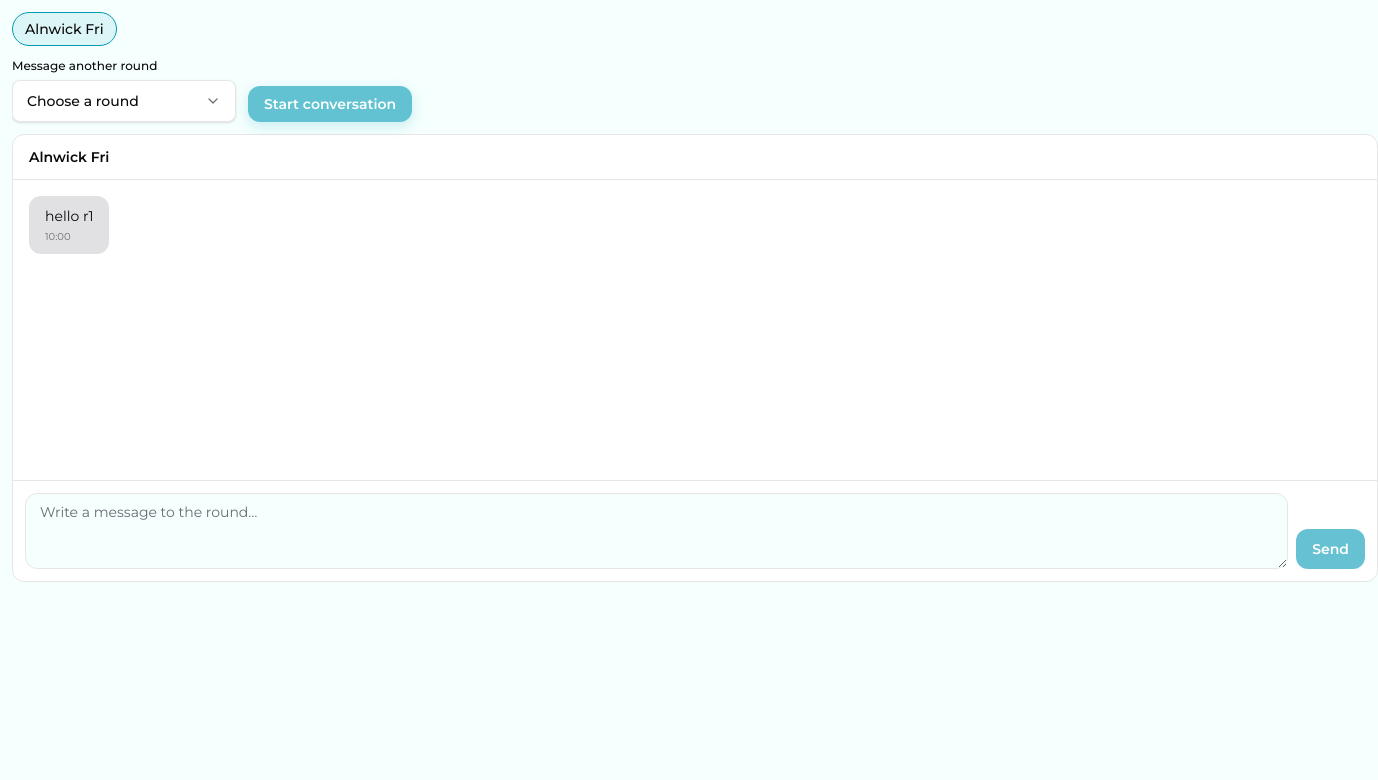
Test case: TechnicianChat › offers the rounds without a chat next to the ones that have one
expect the tab "Alnwick Fri" is shown: met, box x1=12 y1=12 x2=117 y2=46
Click the button named "Message another round" at (124, 101), box x1=12 y1=80 x2=236 y2=122
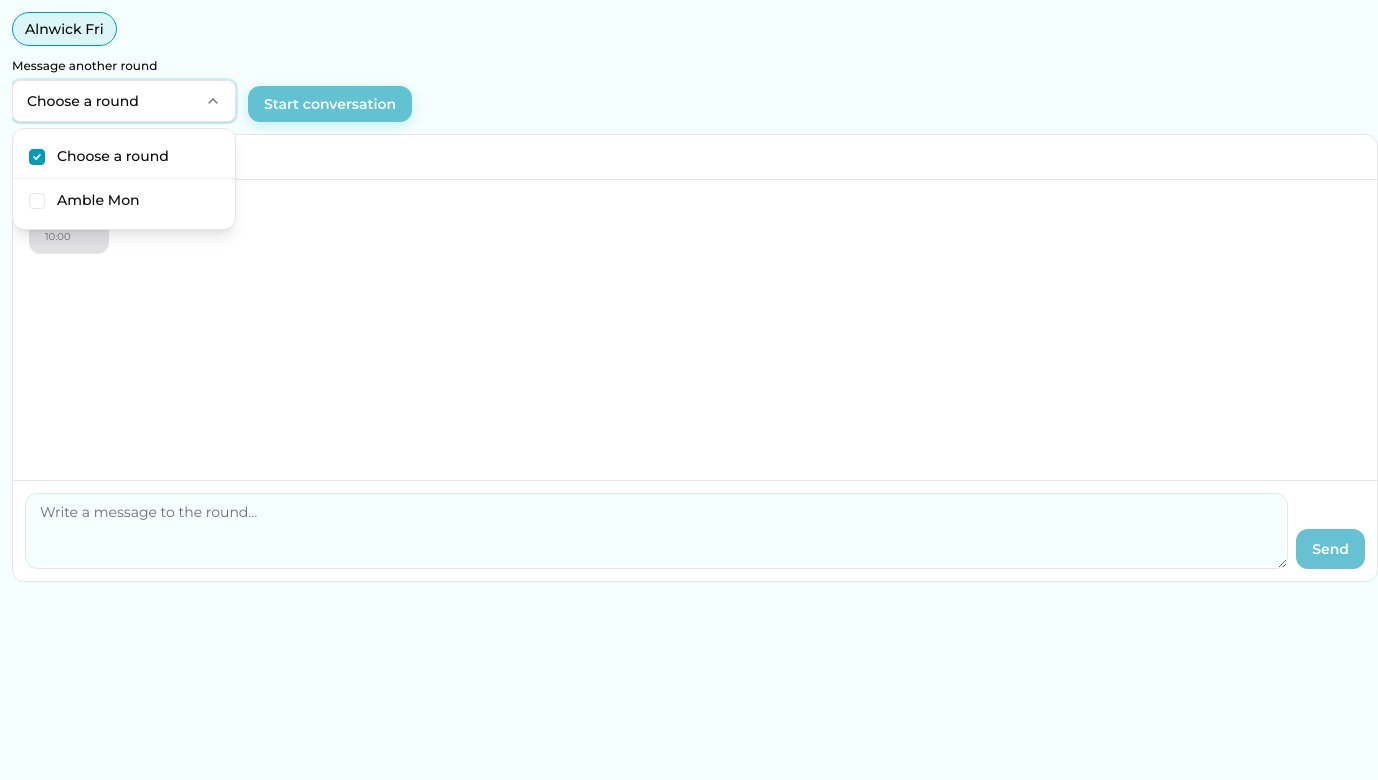
Click the option "Amble Mon" at (124, 201), box x1=13 y1=179 x2=235 y2=223
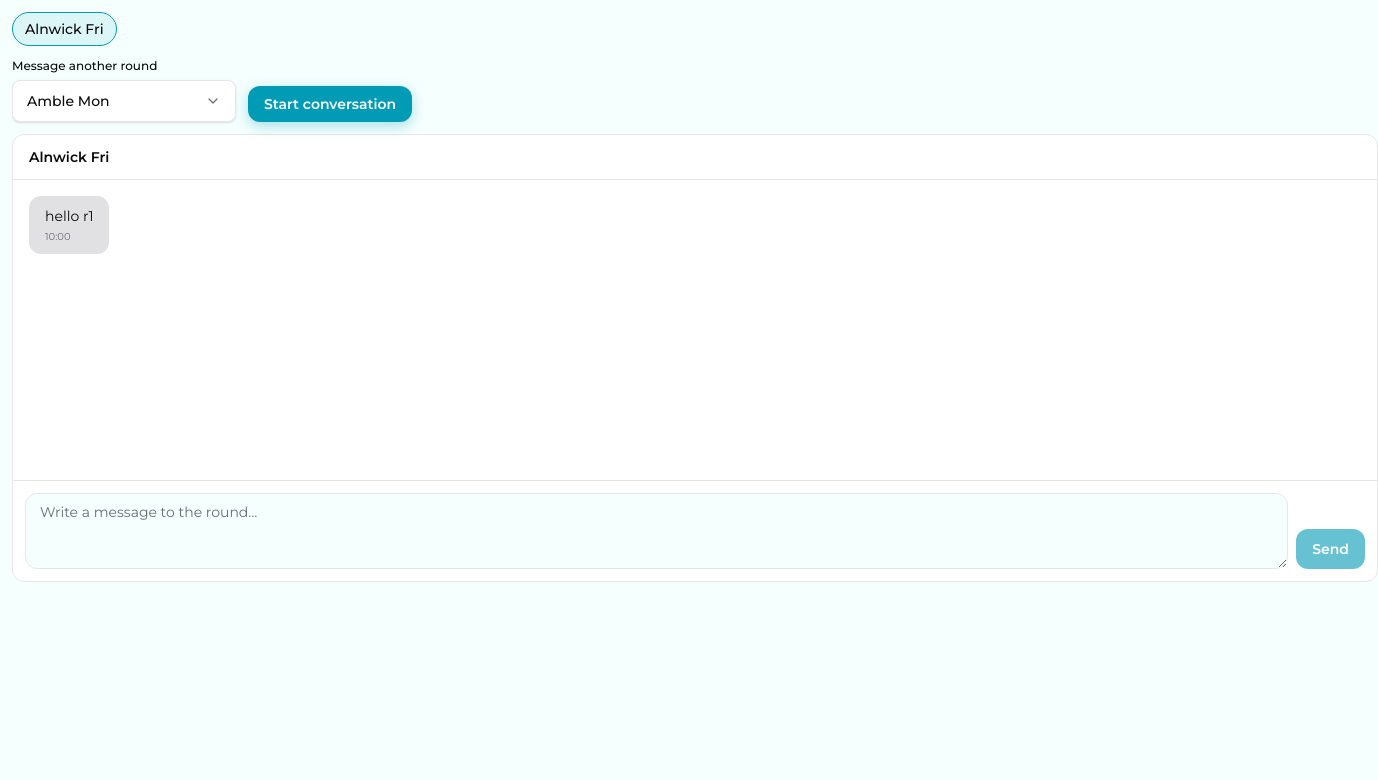
Click the button "Start conversation" at (330, 104), box x1=248 y1=86 x2=412 y2=122
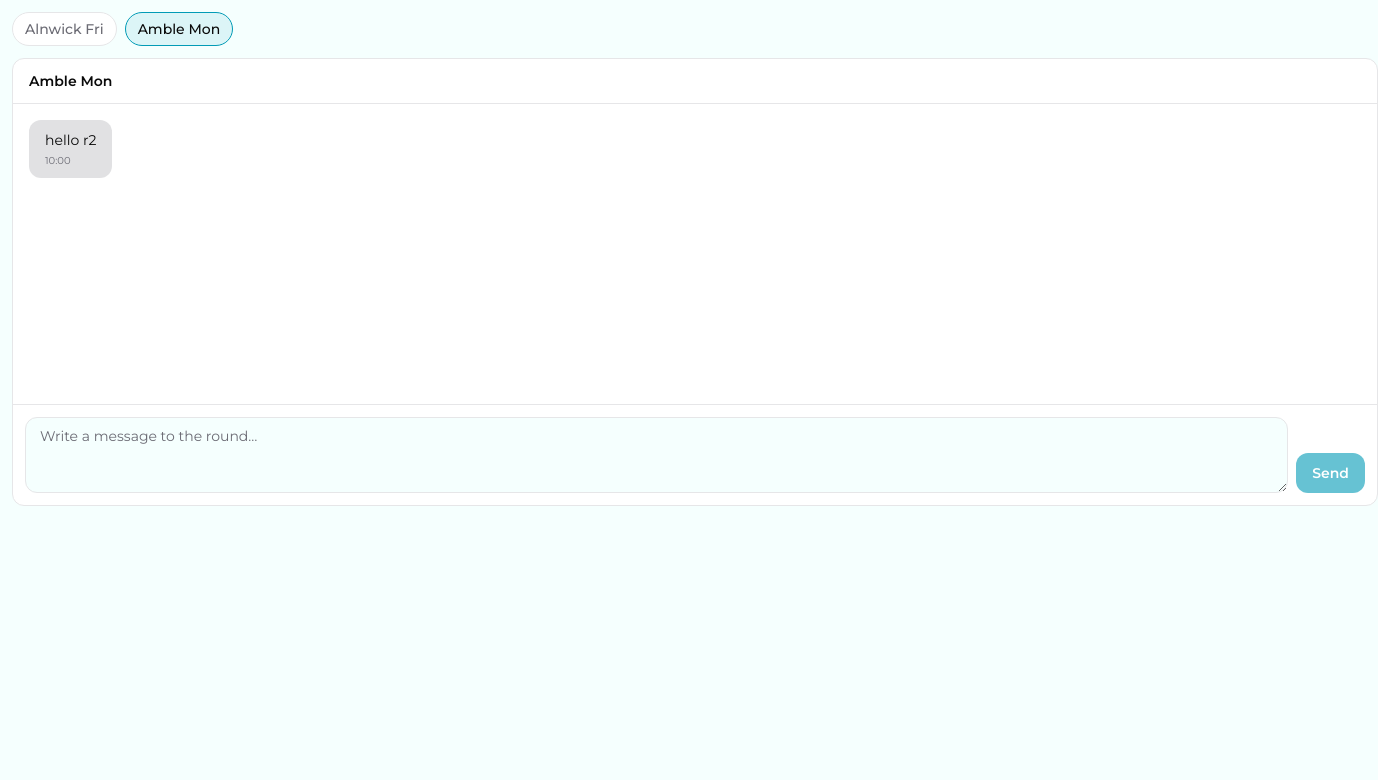
expect the text "Message another round" is gone: met
